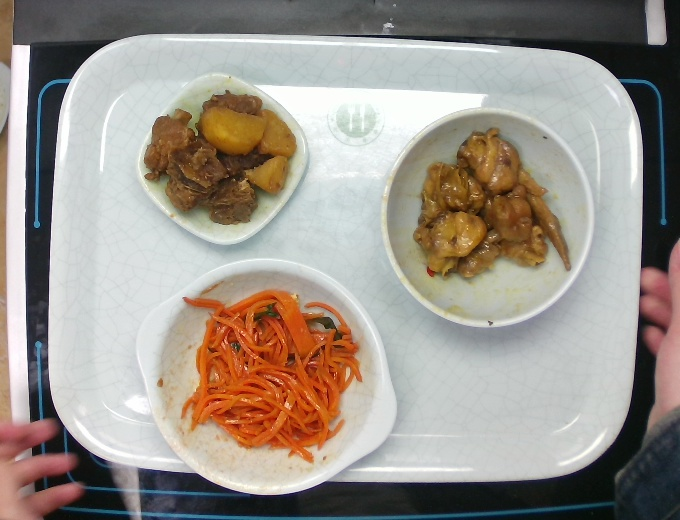JYsf-Fan_Wan: (381, 106, 595, 329)
JYsf-Shuang_Er_Wan: (134, 255, 403, 497)
JYsf-Si_Fang_Die: (132, 68, 309, 245)
